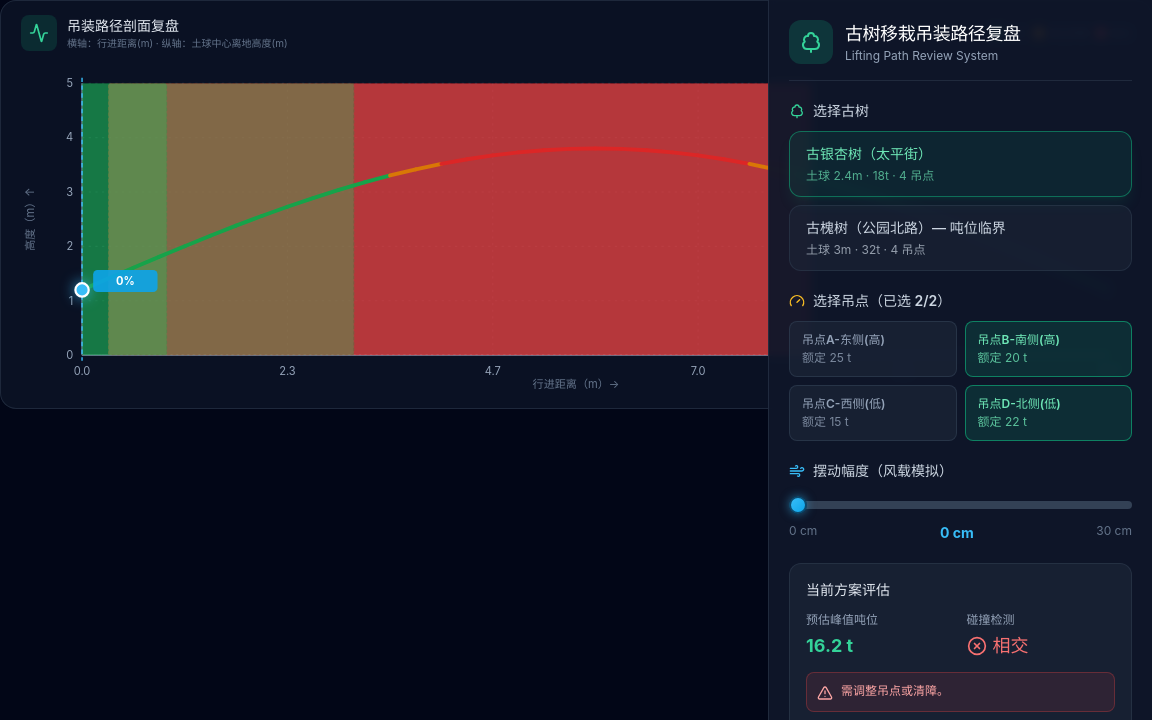
Scenario: 集成：场景4 - 已选吊点并渲染剖面 → 切换古树 › 切树后：吊点清空、组合表按新树重算、剖面回到占位
The width and height of the screenshot is (1152, 720).
Check: the text "选择吊点（已选 2/2）" is shown, box [789,292,951,309]
Click the button "古槐树（公园北路）— 吨位临界 土球 3m · 32t · 4 吊点": [960, 238] box [789,205,1132,271]
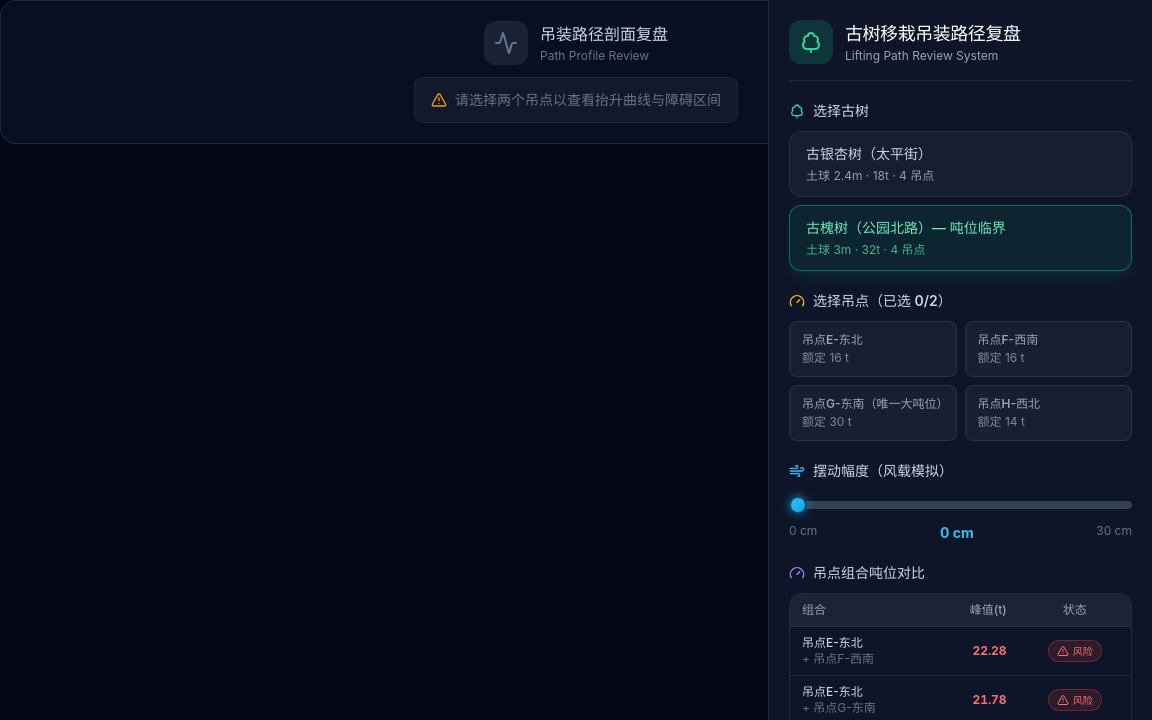
Check: the text "选择吊点（已选 0/2）" is shown, box [789,292,952,309]
Check: the text "请选择两个吊点以查看抬升曲线与障碍区间" is shown, box [455,90,721,110]
